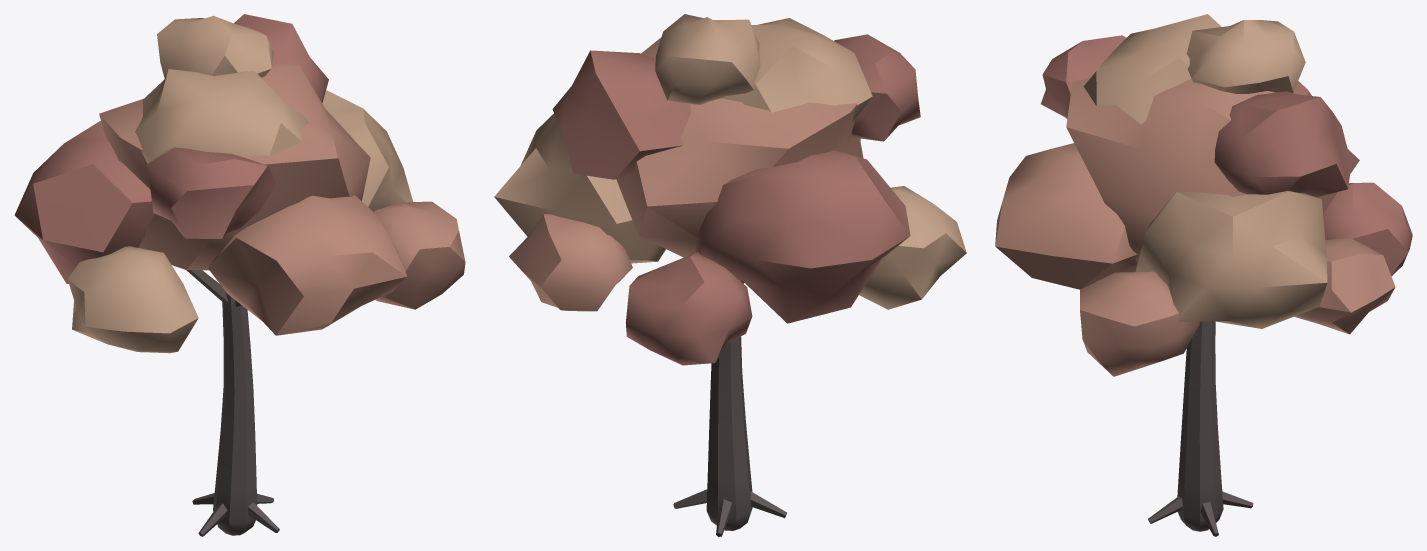
Rendered from tree_ember.gltf.
3 renders of one model, left to right at view 1: azimuth 30°, elevation 25°; view 2: azimuth 150°, elevation 25°; view 3: azimuth 270°, elevation 25°, orthographic. The views are drawn at different scales.
Visible parts, largest first — view 1: Body; view 2: Body; view 3: Body.
Boxes of the visible parts, left/top/right/bottom form: Body: left=14, top=14, right=465, bottom=536; Body: left=494, top=14, right=966, bottom=536; Body: left=995, top=14, right=1412, bottom=536.
Size of the model in its own units: 5.66 by 7.16 by 5.34.
